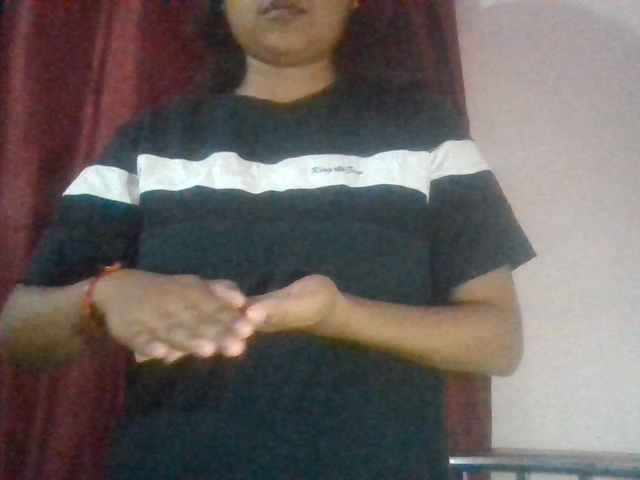H: (82, 252, 402, 376)
